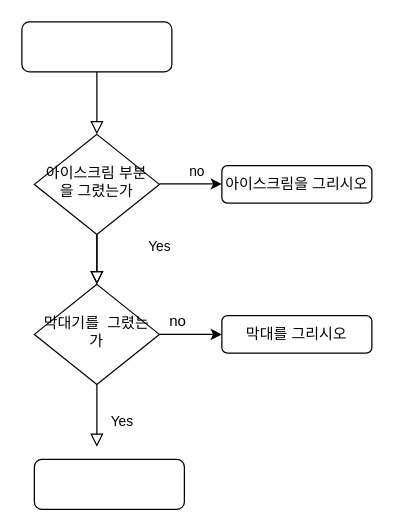
Image size: 394x531. Some labels were removed from this diagram. The box of each missing label's shape, as (x1, y1, x2, y2) in pixels:
막대를 4번 반복했는가: (33, 458, 184, 509)
아이스크림 림을 그린다: (21, 21, 172, 72)
